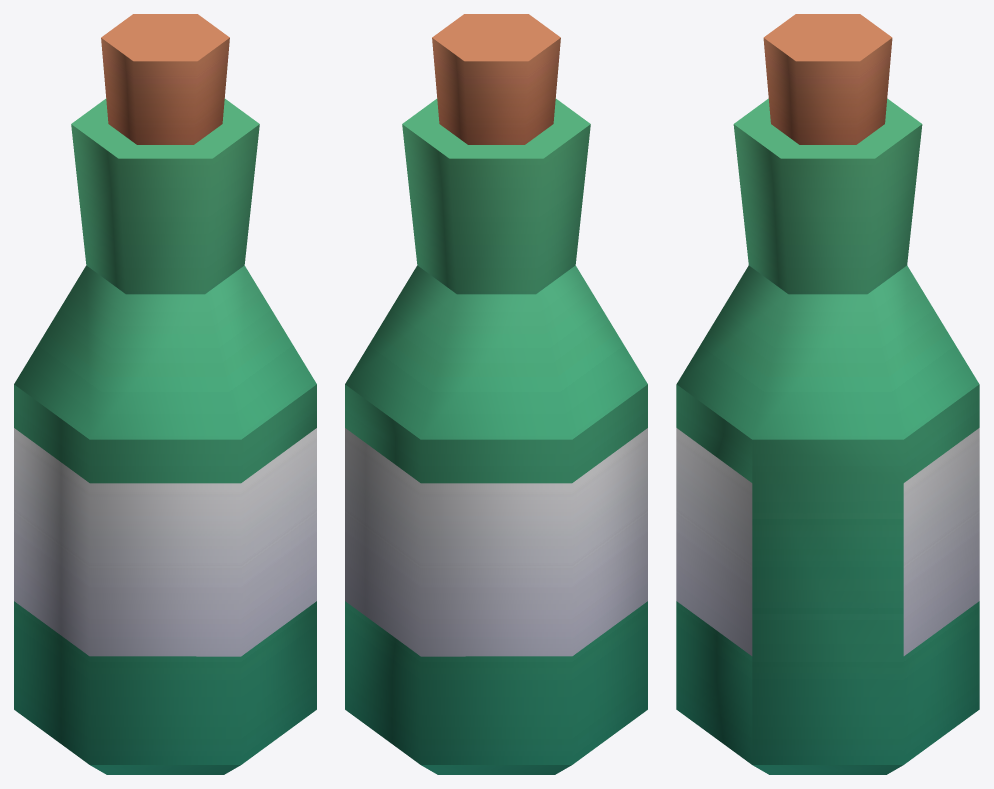
File: bottle.glb
3 views of the same model, side by side, from view 1: azimuth 30°, elevation 25°; view 2: azimuth 150°, elevation 25°; view 3: azimuth 270°, elevation 25° (orthographic).
Visible parts, largest first — view 1: bottle; view 2: bottle; view 3: bottle.
Boxes of the visible parts, bbox=[...] form: bottle: bbox=[14, 14, 316, 774]; bottle: bbox=[345, 14, 647, 774]; bottle: bbox=[676, 14, 979, 774].
Size of the model in its own units: 0.0527 by 0.1539 by 0.0608.
1 material, 1 textured.
